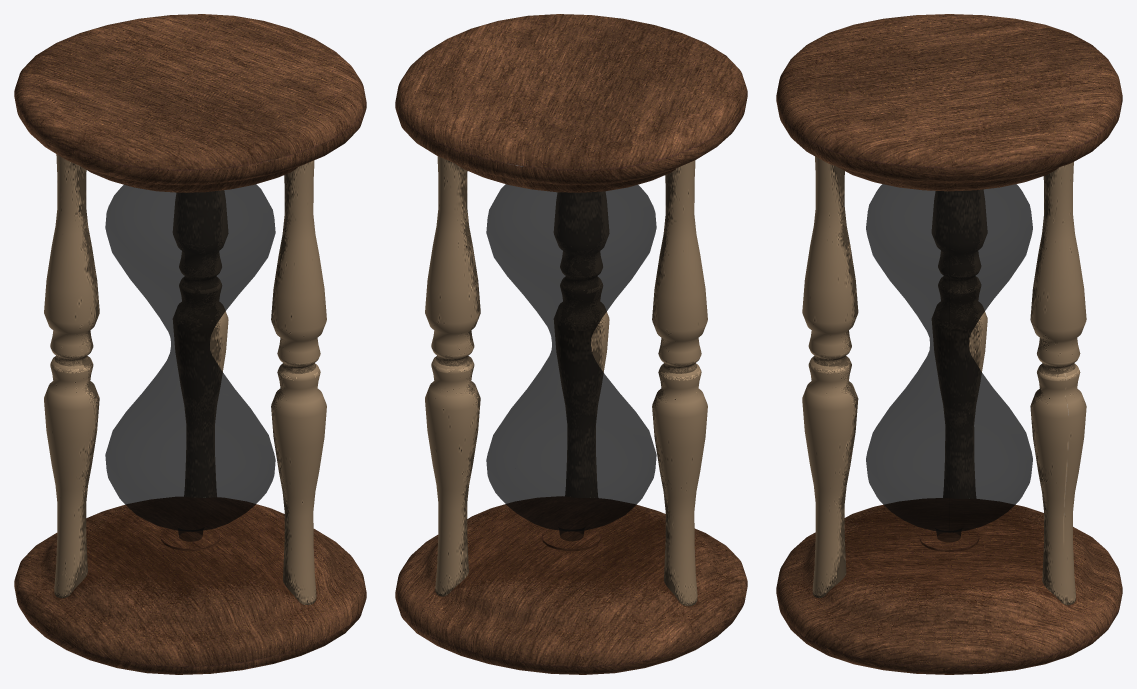
The model's file is wooden_hourglass.glb.
The picture shows the model from 3 angles, left to right: view 1: azimuth 30°, elevation 25°; view 2: azimuth 150°, elevation 25°; view 3: azimuth 270°, elevation 25°; orthographic projection.
Parts seen in each view (by area): view 1: pCube7, pCube1, pCube9, pCylinder12, pCylinder11, pCylinder10, pCylinder1; view 2: pCube7, pCube1, pCube9, pCylinder11, pCylinder10, pCylinder12, pCylinder1; view 3: pCube7, pCube1, pCube9, pCylinder10, pCylinder12, pCylinder11, pCylinder1.
Part boxes in pixels (x1,y1,x2,y2): pCube7: [14, 14, 366, 192]; pCube1: [14, 497, 366, 674]; pCube9: [105, 184, 275, 541]; pCylinder12: [271, 160, 326, 605]; pCylinder11: [44, 154, 99, 598]; pCylinder10: [173, 190, 228, 497]; pCylinder1: [161, 524, 219, 550]; pCube7: [395, 14, 747, 192]; pCube1: [395, 496, 747, 674]; pCube9: [486, 184, 656, 541]; pCylinder11: [652, 160, 707, 606]; pCylinder10: [425, 156, 480, 596]; pCylinder12: [554, 191, 609, 497]; pCylinder1: [542, 524, 600, 550]; pCube7: [776, 14, 1122, 191]; pCube1: [776, 498, 1122, 674]; pCube9: [866, 184, 1032, 542]; pCylinder10: [1030, 162, 1086, 605]; pCylinder12: [802, 156, 858, 597]; pCylinder11: [932, 190, 987, 498]; pCylinder1: [919, 525, 979, 552].
Bounding box in the file's own units: 0.0869 × 0.1461 × 0.0869.
Materials: 3 (2 with a texture image).
